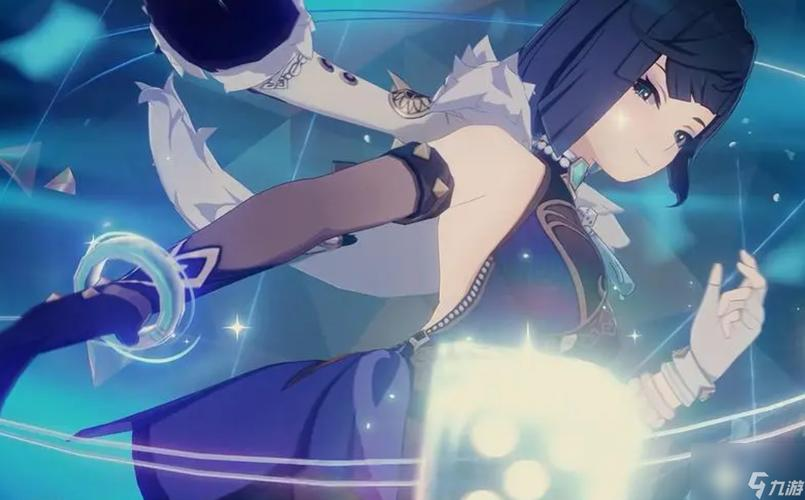夜兰: (1, 2, 773, 499)
